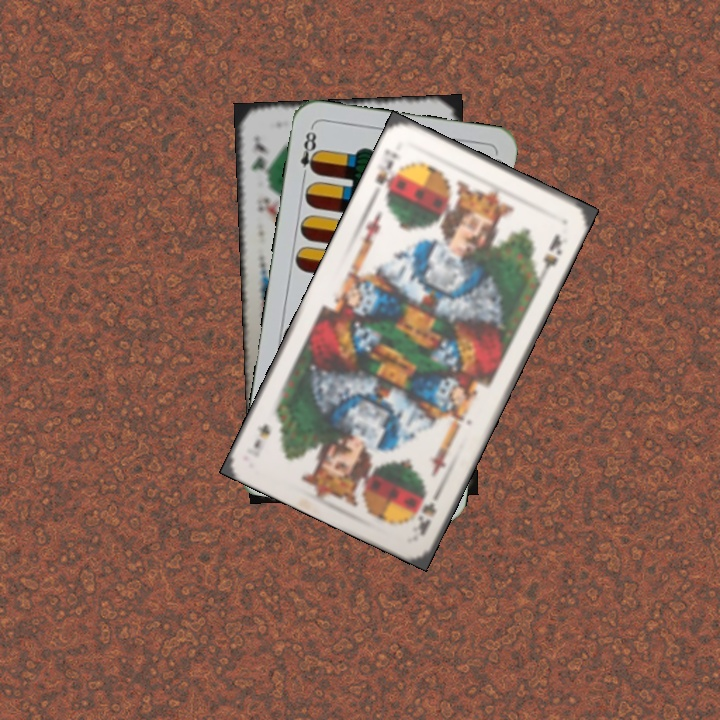E8: (296, 124, 322, 183)
GK: (247, 130, 271, 186)
SK: (371, 144, 404, 201), (414, 487, 441, 539)
